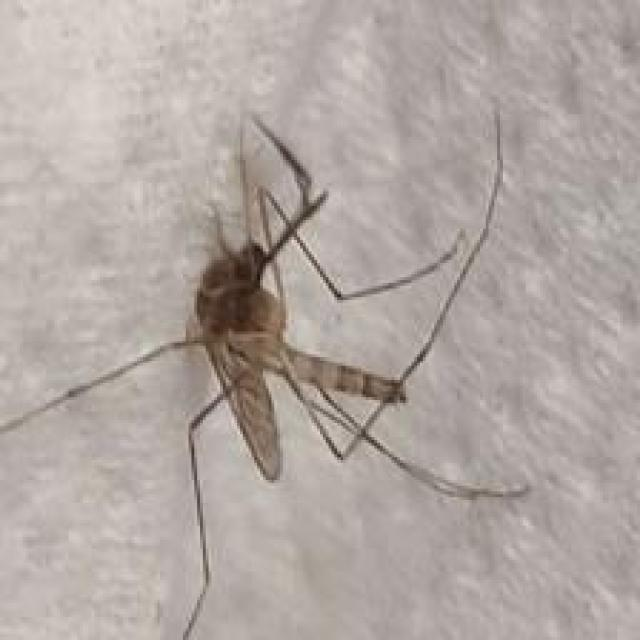Culex: (0, 105, 531, 640)
